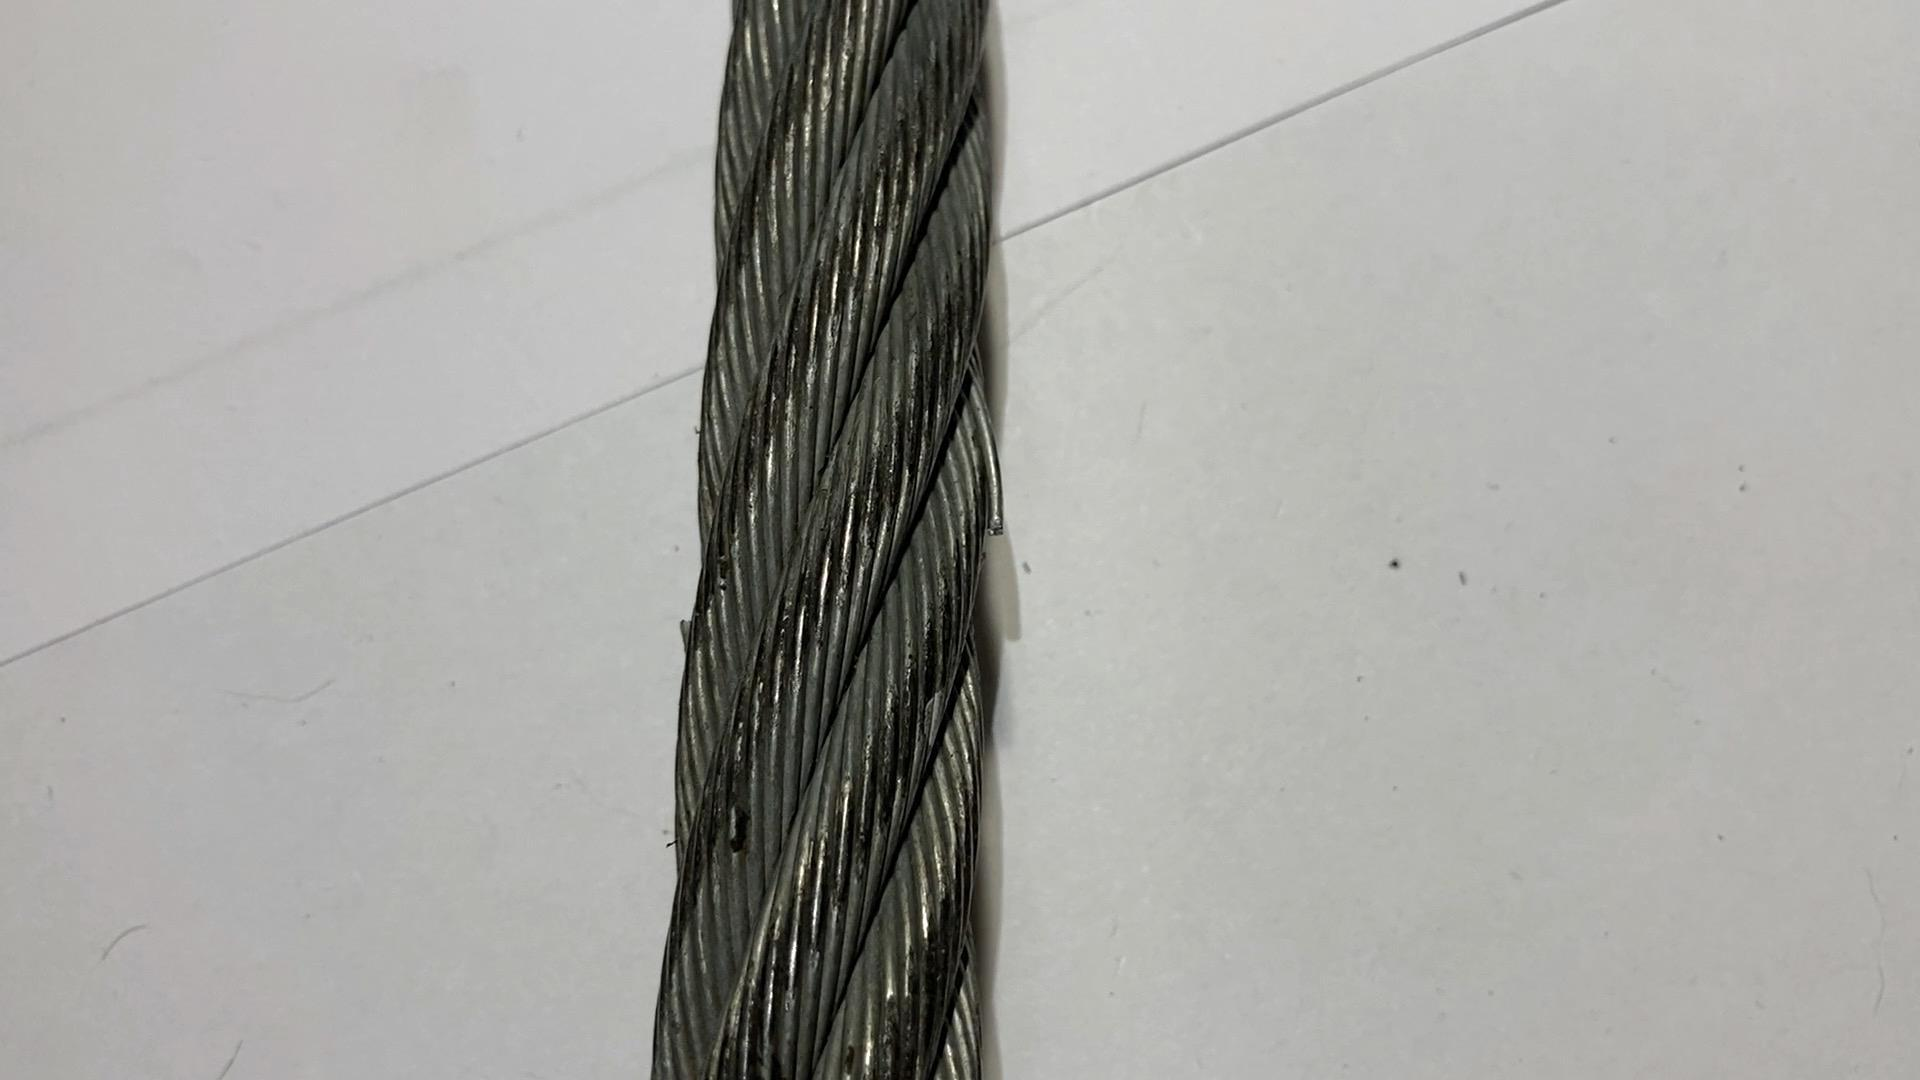break: (955, 371, 1014, 541)
